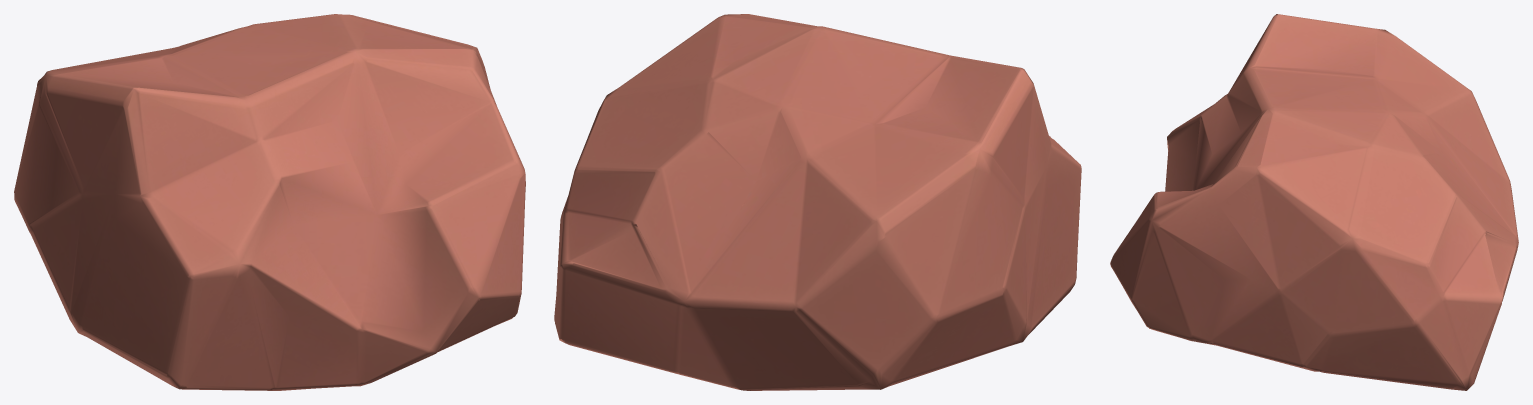
3 renders of one model, left to right at view 1: azimuth 30°, elevation 25°; view 2: azimuth 150°, elevation 25°; view 3: azimuth 270°, elevation 25°, orthographic. The views are drawn at different scales.
Parts seen in each view (by area): view 1: tripo_node_e7fed6c0-5816-4c12-8d09-5c216ed3cb66; view 2: tripo_node_e7fed6c0-5816-4c12-8d09-5c216ed3cb66; view 3: tripo_node_e7fed6c0-5816-4c12-8d09-5c216ed3cb66.
Boxes of the visible parts, x1,y1,x2,y2 form: tripo_node_e7fed6c0-5816-4c12-8d09-5c216ed3cb66: [14, 14, 525, 390]; tripo_node_e7fed6c0-5816-4c12-8d09-5c216ed3cb66: [554, 14, 1081, 390]; tripo_node_e7fed6c0-5816-4c12-8d09-5c216ed3cb66: [1110, 14, 1518, 390].
Bounding box in the file's own units: 0.998 × 0.6309 × 0.998.
1 material, 1 textured.
